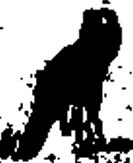Owl: (13, 6, 129, 160)
